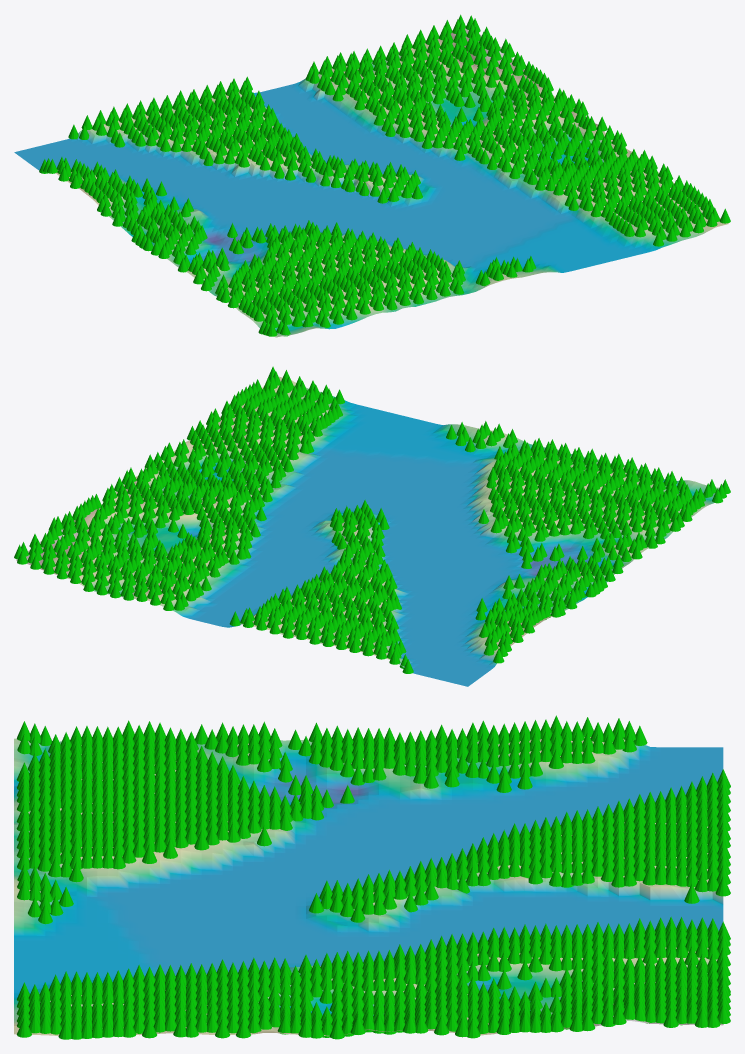
Rendered from 003534_with_tree.glb.
3 views of the same model, one above another, from view 1: azimuth 30°, elevation 25°; view 2: azimuth 150°, elevation 25°; view 3: azimuth 270°, elevation 25° (orthographic). The views are drawn at different scales.
Parts seen in each view (by area): view 1: trees, terrain; view 2: trees, terrain; view 3: trees, terrain.
Part boxes in pixels (x1=…): trees: x1=39, y1=14, x2=730, y2=336; terrain: x1=14, y1=28, x2=728, y2=337; trees: x1=14, y1=366, x2=730, y2=673; terrain: x1=16, y1=376, x2=719, y2=686; trees: x1=16, y1=715, x2=730, y2=1039; terrain: x1=14, y1=733, x2=723, y2=1036.
Bounding box in the file's own units: 0.0187 × 0.00133 × 0.0185.
